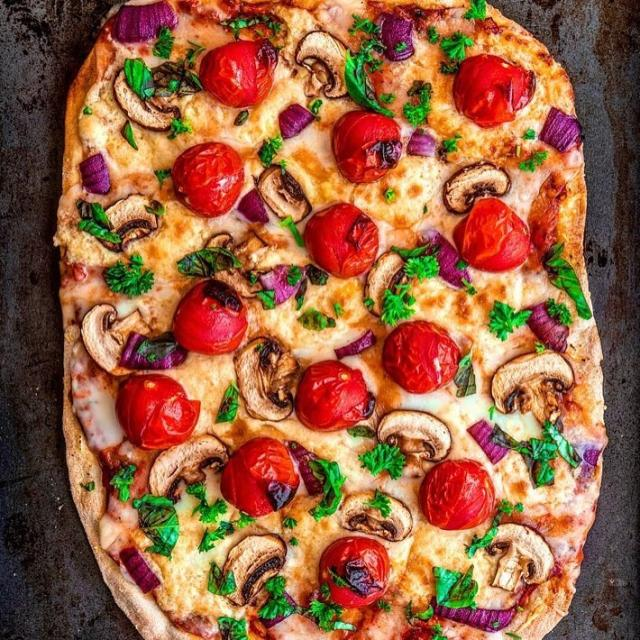basil: (529, 418, 583, 489), (547, 242, 593, 324), (343, 52, 396, 118), (130, 491, 181, 559), (98, 250, 159, 300), (176, 240, 245, 280), (428, 564, 482, 614), (307, 454, 347, 521), (426, 25, 474, 77), (301, 581, 349, 632), (481, 403, 528, 452), (362, 286, 418, 325), (353, 441, 407, 481), (392, 239, 442, 282), (484, 295, 530, 341), (78, 200, 122, 248), (191, 515, 261, 544), (294, 300, 348, 335), (403, 600, 449, 640), (185, 484, 229, 524), (256, 577, 296, 620), (222, 13, 283, 41), (514, 128, 550, 174), (346, 10, 385, 52), (241, 268, 279, 311), (104, 459, 139, 505), (401, 81, 435, 126), (452, 346, 478, 401), (284, 260, 330, 289), (206, 560, 239, 600), (216, 378, 242, 428), (208, 610, 250, 640), (464, 523, 498, 560), (452, 255, 479, 298), (150, 19, 176, 63), (275, 212, 305, 250), (258, 129, 287, 168), (543, 296, 576, 328), (112, 117, 141, 151), (321, 569, 347, 604), (278, 516, 306, 548), (496, 496, 525, 524), (182, 38, 206, 70), (365, 488, 393, 514), (168, 118, 197, 143), (146, 164, 174, 188), (459, 0, 489, 22), (140, 195, 166, 220), (438, 132, 463, 156), (292, 278, 310, 310), (179, 66, 201, 92), (345, 424, 375, 440), (232, 109, 251, 132), (308, 94, 324, 119), (80, 476, 98, 497), (382, 183, 398, 205), (374, 599, 394, 615), (392, 38, 409, 56), (168, 73, 180, 93), (80, 106, 94, 119), (534, 340, 546, 355), (490, 619, 502, 629)
mushrooms: (482, 349, 572, 426), (225, 340, 296, 422), (148, 435, 230, 502), (82, 300, 153, 376), (375, 407, 453, 476), (483, 524, 555, 592), (292, 27, 355, 103), (219, 533, 287, 603), (204, 224, 266, 299), (115, 62, 179, 134), (356, 246, 417, 320), (339, 486, 417, 541), (442, 160, 516, 215), (91, 196, 161, 251), (257, 164, 314, 224)
pizza: (55, 0, 606, 640)
tomatoes: (115, 368, 203, 453), (220, 438, 302, 520), (168, 278, 251, 358), (380, 320, 464, 399), (450, 53, 537, 128), (302, 200, 383, 280), (450, 196, 533, 274), (316, 531, 391, 613), (294, 360, 376, 434), (199, 39, 284, 110), (419, 457, 497, 531), (168, 141, 242, 219), (332, 108, 404, 184)
